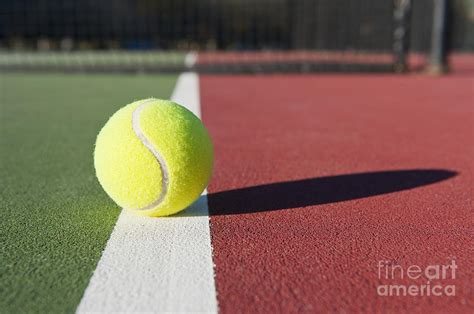tennis_ball: (93, 98, 215, 218)
